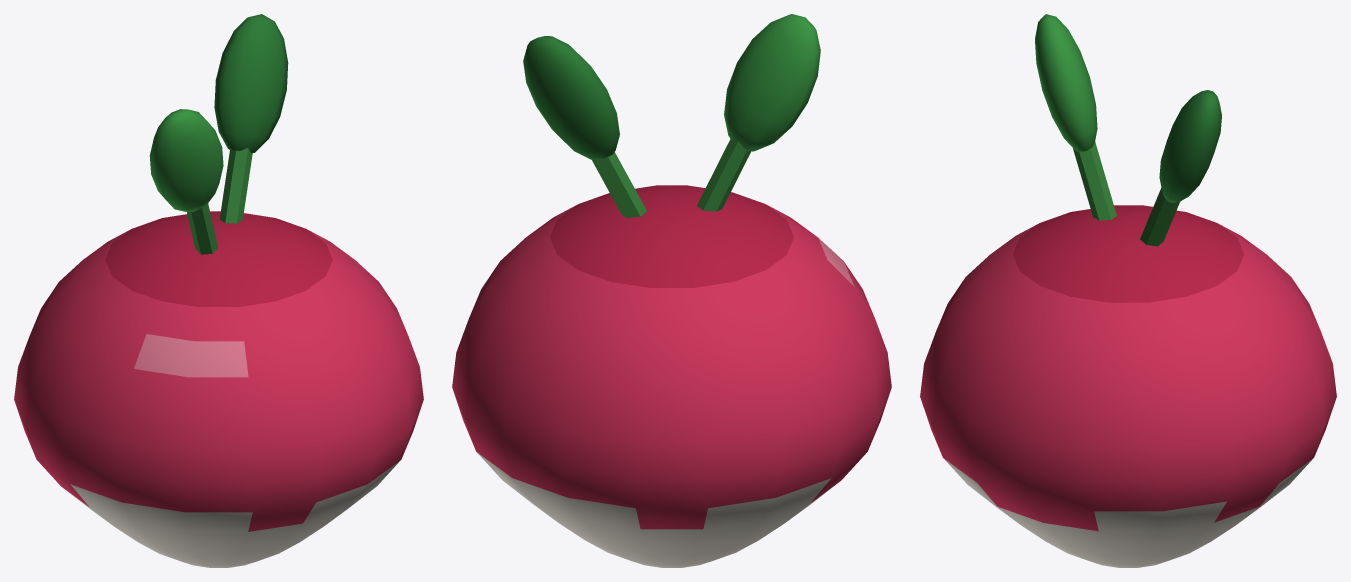
Rendered from Radish.glb.
3 renders of one model, left to right at view 1: azimuth 30°, elevation 25°; view 2: azimuth 150°, elevation 25°; view 3: azimuth 270°, elevation 25°, orthographic. The views are drawn at different scales.
Parts seen in each view (by area): view 1: Radish; view 2: Radish; view 3: Radish.
Part boxes in pixels (x1,y1,x2,y2): Radish: [14, 14, 423, 567]; Radish: [452, 14, 891, 567]; Radish: [920, 14, 1336, 567].
Size of the model in its own units: 0.5613 by 0.7569 by 0.57.
